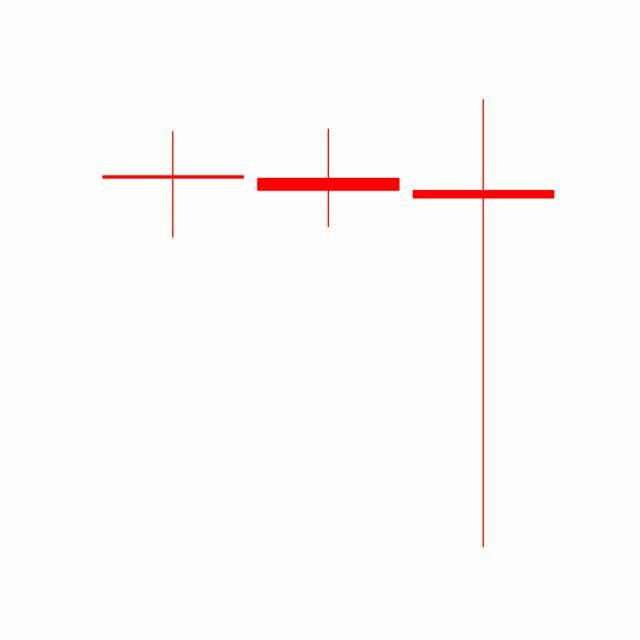Spinning Top: (250, 127, 407, 229)
